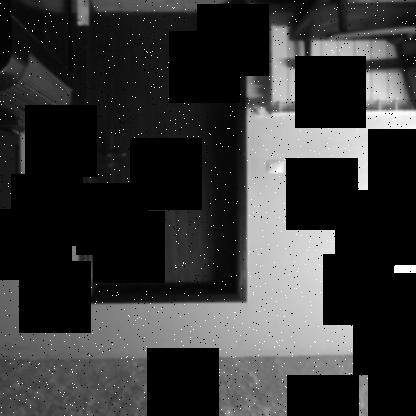Porte: (76, 1, 250, 306)
